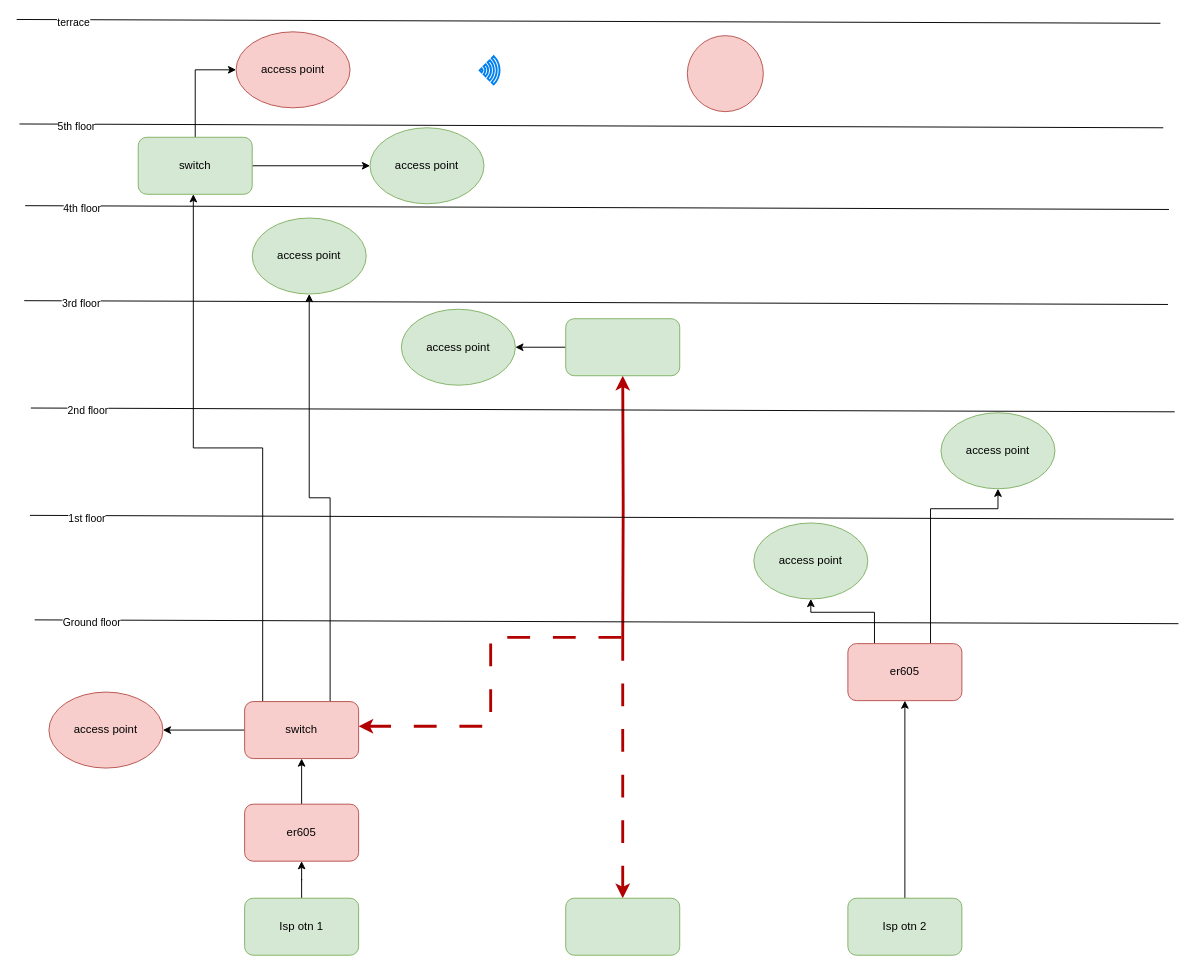
This 1196x973 diagram has some shape labels left out. The box of each missing label's shape, as (x1, y1, x2, y2) in pixels:
Hub: (686, 35, 763, 112)
Isp otn 3: (565, 897, 680, 955)
openwrt(3rdfloor): (565, 318, 680, 376)
